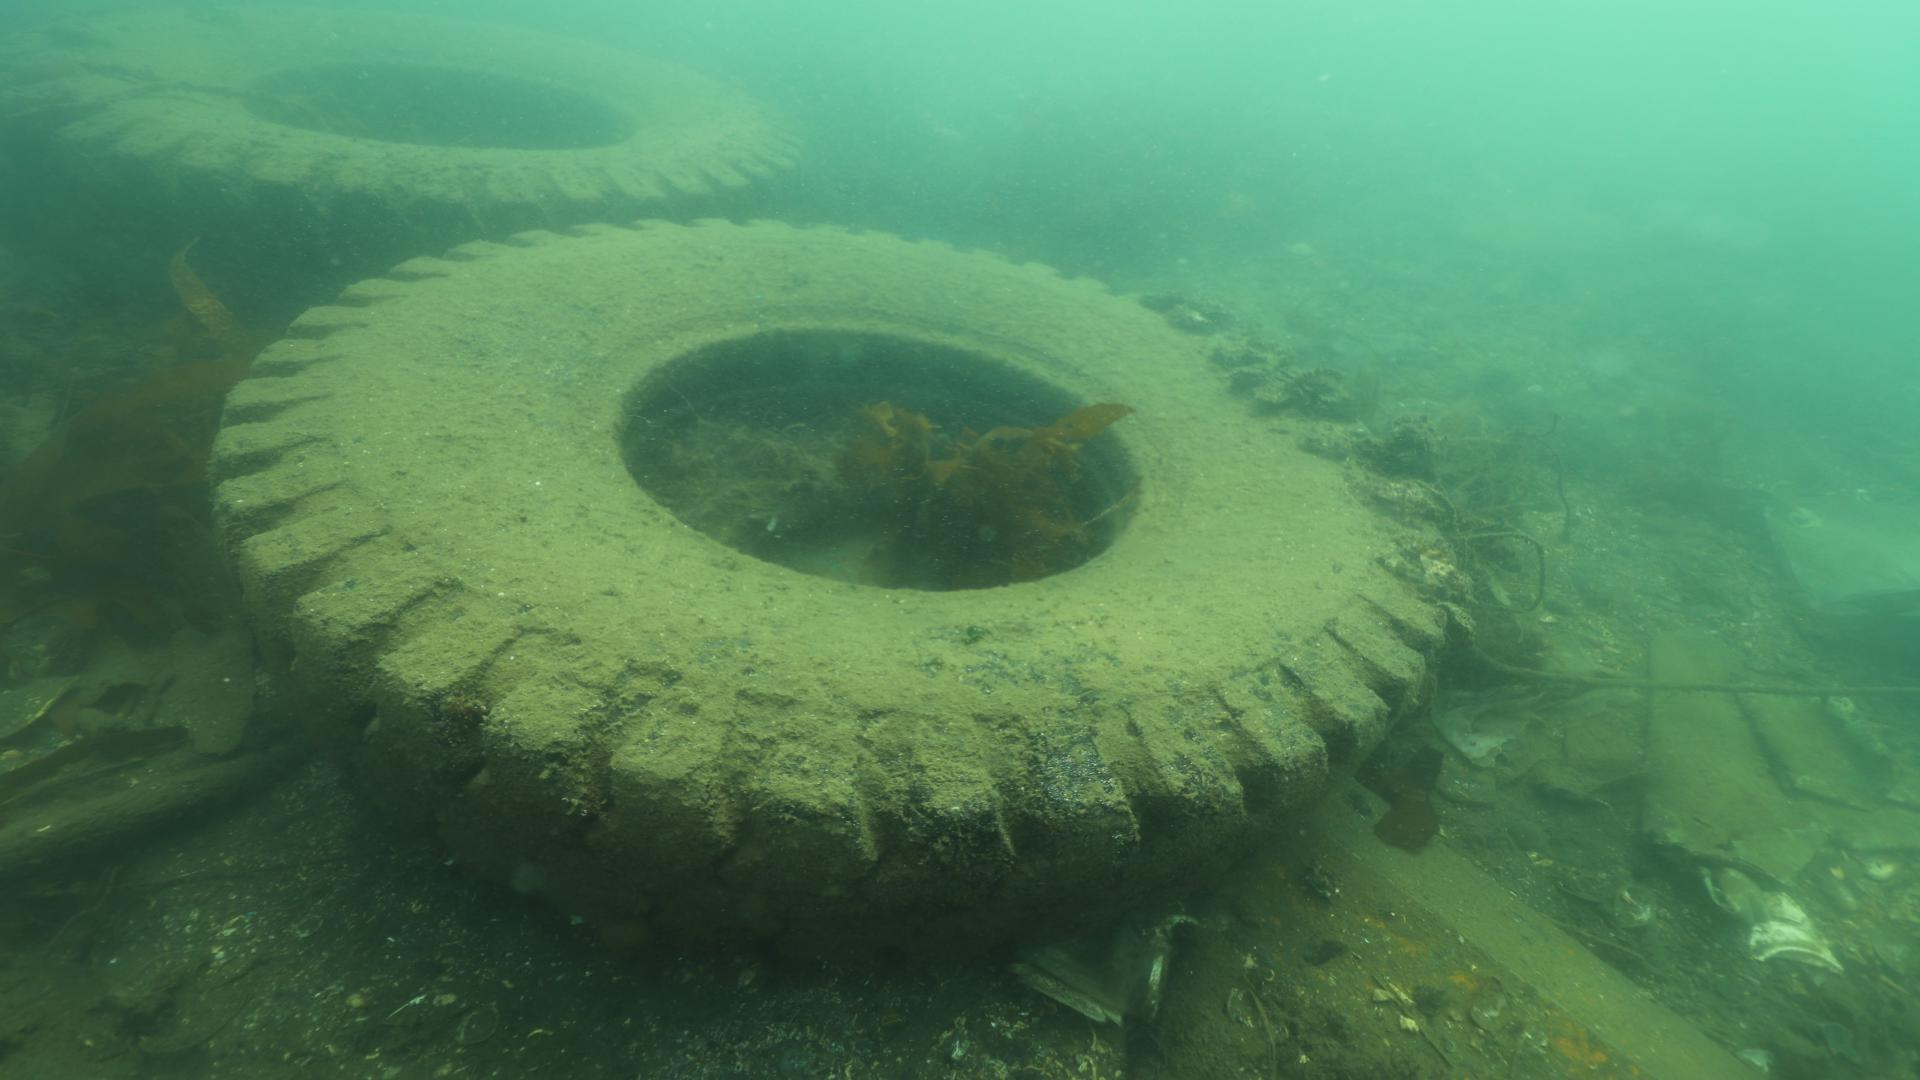rope: (1386, 583, 1920, 744)
tire: (204, 215, 1457, 982), (0, 0, 814, 310)
